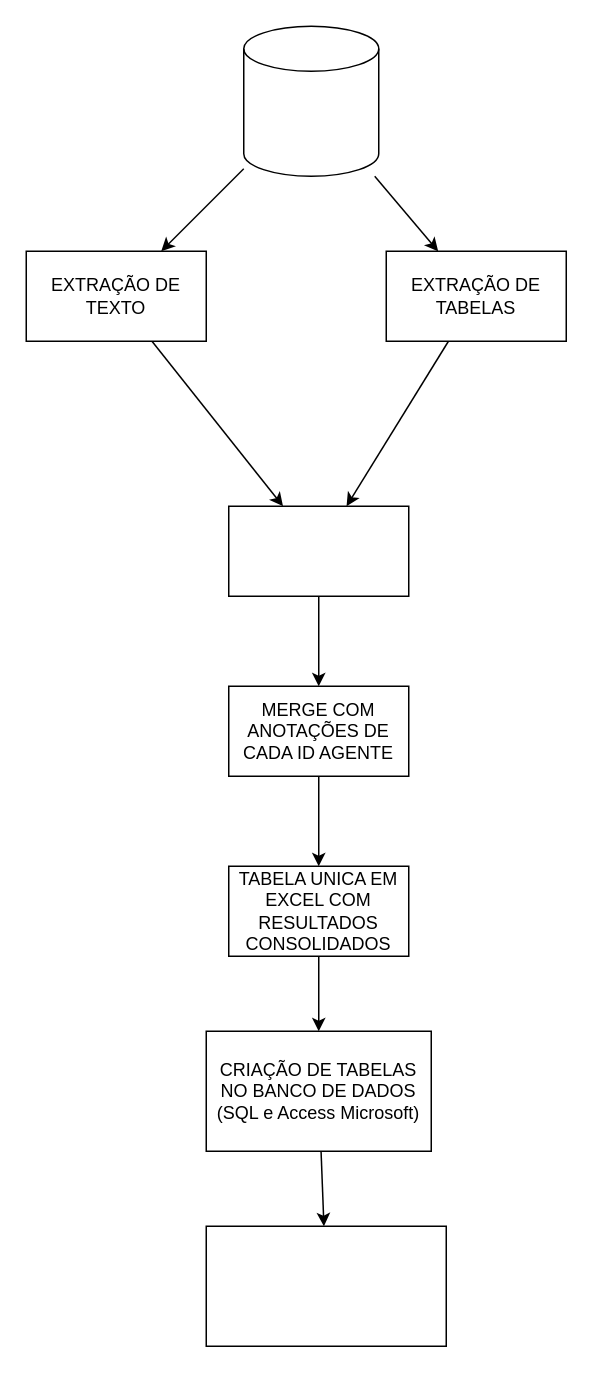
Some shapes in this 593 by 1373 pixel diagram are drawn without their labels. Each missing label, with the centre of its shape:
ARQUIVOS PDF: point (310, 100)
SITE DASHBOARD (Flask + HTML + Tailwind): point (325, 1285)
TRATAMENTO POWER QUERY e PANDAS: point (318, 550)
